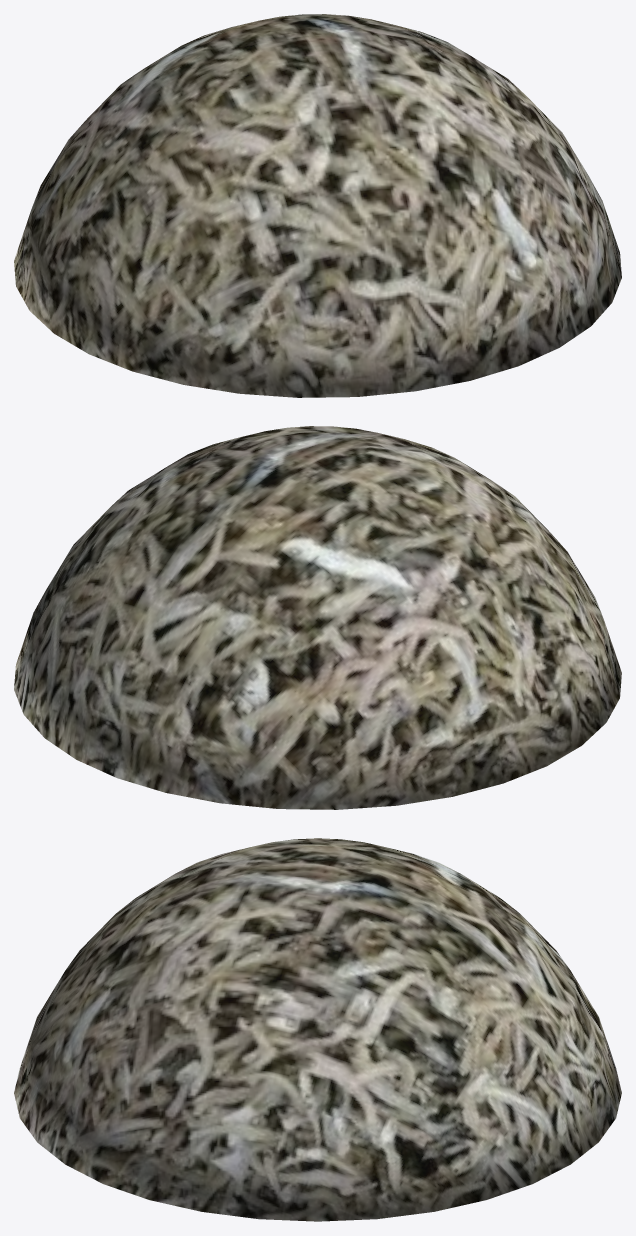
File: anchovies.fbx
3 renders of one model, top to bottom at view 1: azimuth 30°, elevation 25°; view 2: azimuth 150°, elevation 25°; view 3: azimuth 270°, elevation 25°, orthographic.
Visible parts, largest first — view 1: anchovies; view 2: anchovies; view 3: anchovies.
Part boxes in pixels (bbox=[...]): anchovies: bbox=[14, 14, 621, 397]; anchovies: bbox=[14, 426, 621, 809]; anchovies: bbox=[14, 838, 621, 1221].
Bounding box in the file's own units: 196 × 80.49 × 196.
Materials: 1 (1 with a texture image).
